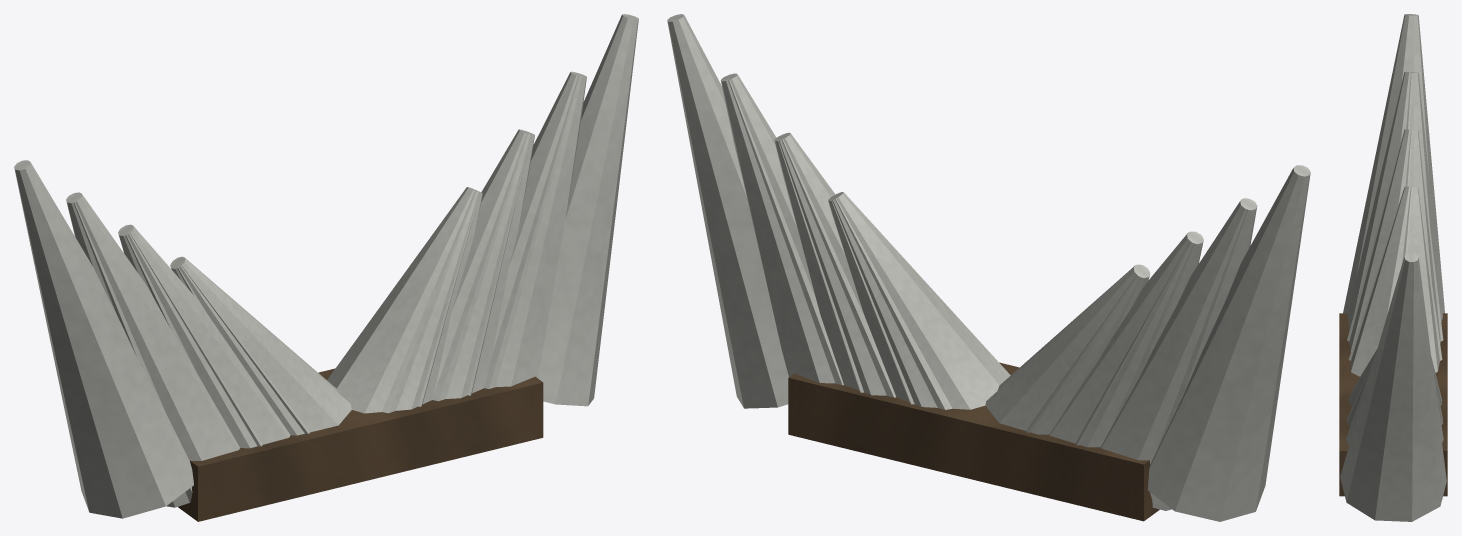
The model's file is SwarmSpines.fbx.
3 views of the same model, side by side, from view 1: azimuth 30°, elevation 25°; view 2: azimuth 150°, elevation 25°; view 3: azimuth 270°, elevation 25° (orthographic). The views are drawn at different scales.
Visible parts, largest first — view 1: SwarmSpinesDetail0, SwarmSpinesDetail1, SwarmSpinesDetail2; view 2: SwarmSpinesDetail0, SwarmSpinesDetail1, SwarmSpinesDetail2; view 3: SwarmSpinesDetail0, SwarmSpinesDetail2, SwarmSpinesDetail1.
Boxes of the visible parts, x1,y1,x2,y2 form: SwarmSpinesDetail0: (14,14,638,519); SwarmSpinesDetail1: (67,71,585,521); SwarmSpinesDetail2: (120,131,532,446); SwarmSpinesDetail0: (667,14,1310,521); SwarmSpinesDetail1: (724,73,1255,521); SwarmSpinesDetail2: (777,133,1201,445); SwarmSpinesDetail0: (1339,14,1447,521); SwarmSpinesDetail2: (1347,129,1443,424); SwarmSpinesDetail1: (1339,71,1447,496).
Size of the model in its own units: 64.87 by 36.49 by 12.
1 material, 1 textured.
